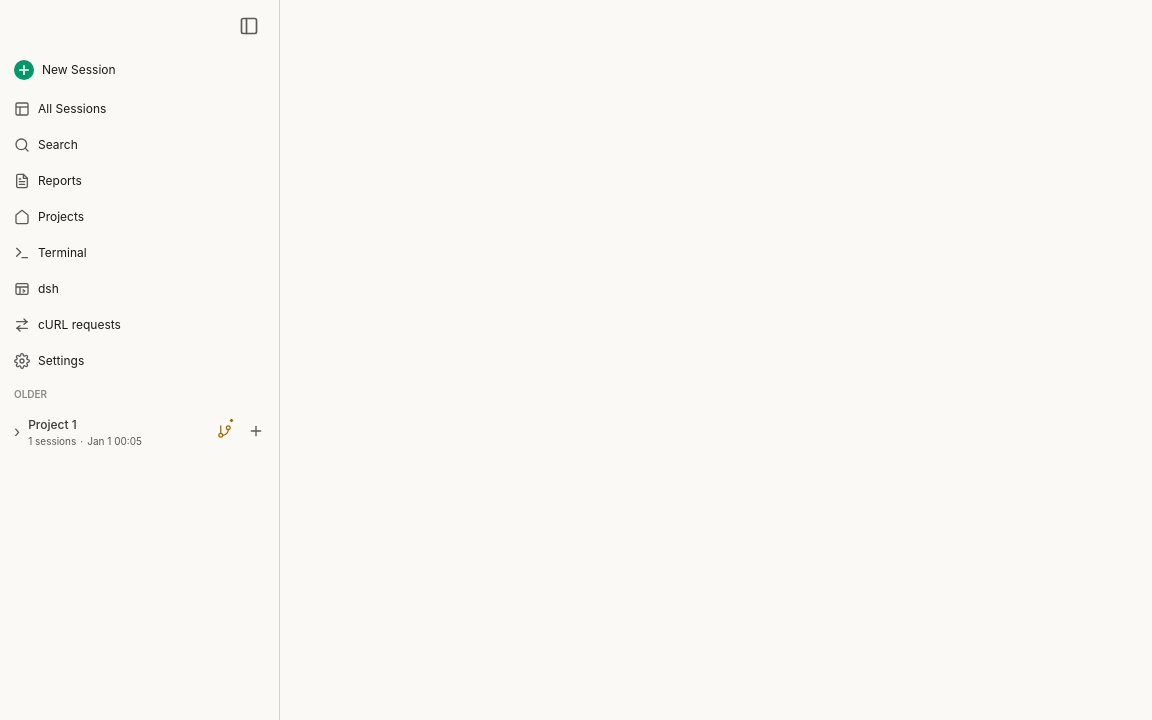
Test: Sidebar recent session browsing › moves the project Git summary out of the crowded project title
The width and height of the screenshot is (1152, 720).
expect the element with class "sidebar-project-title" reads "Project 1": met, box [28,417,77,432]
expect the text "feature/sidebar-details" is not shown: met
What coordinates should you click on to do the following:
click the button named "Show Git details for Project 1"
I would click on:
 (224, 431)
Its box is [209,412,239,450].
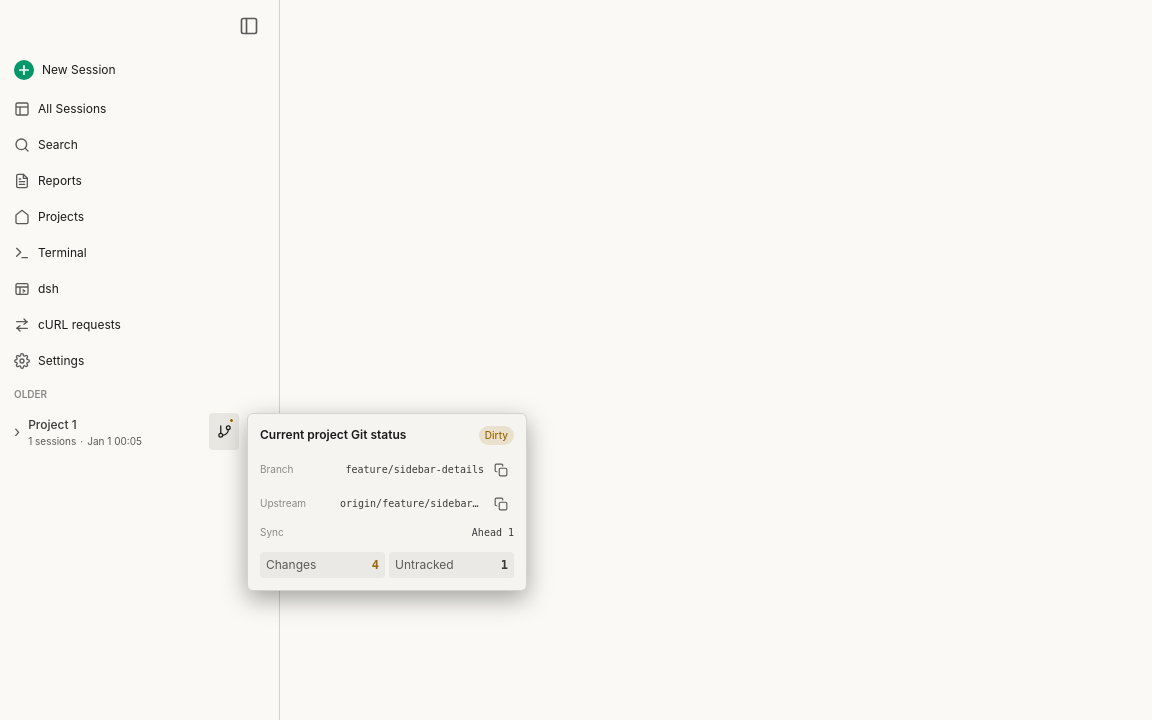
expect the dialog shows "feature/sidebar-details": met, box [346,464,484,475]
